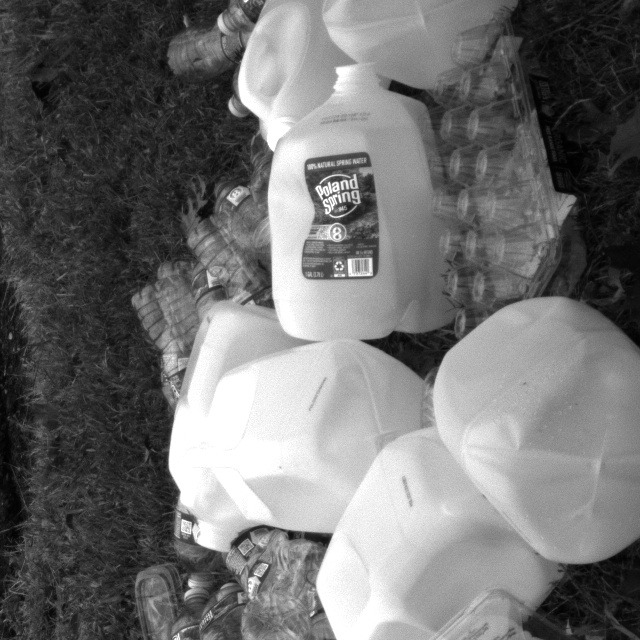bottle: (173, 142, 300, 294), (124, 256, 208, 406), (152, 6, 278, 75)
can: (410, 288, 640, 556), (259, 61, 462, 349), (312, 417, 563, 640), (207, 332, 429, 542), (154, 296, 305, 565), (218, 0, 389, 170), (347, 0, 529, 97)
container: (392, 24, 591, 361), (343, 583, 550, 640)
